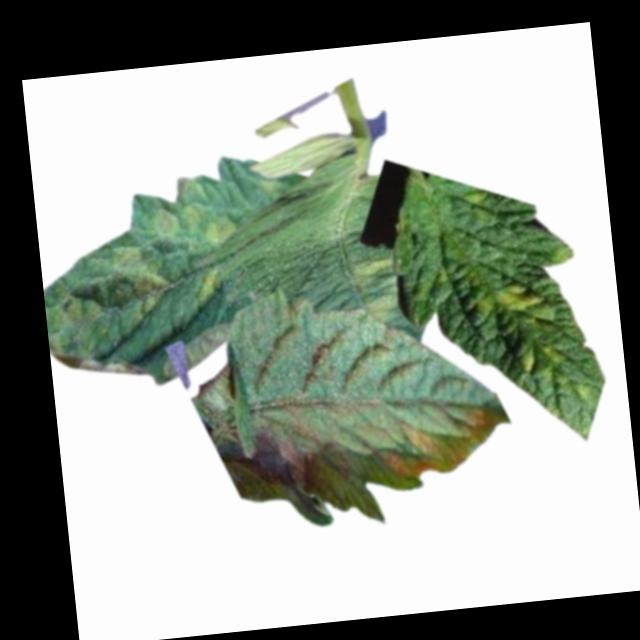Leaf_Mold: (45, 241, 174, 359), (372, 398, 504, 488), (145, 172, 236, 254), (341, 249, 402, 328), (475, 275, 554, 328), (516, 333, 569, 380), (192, 264, 228, 310)
